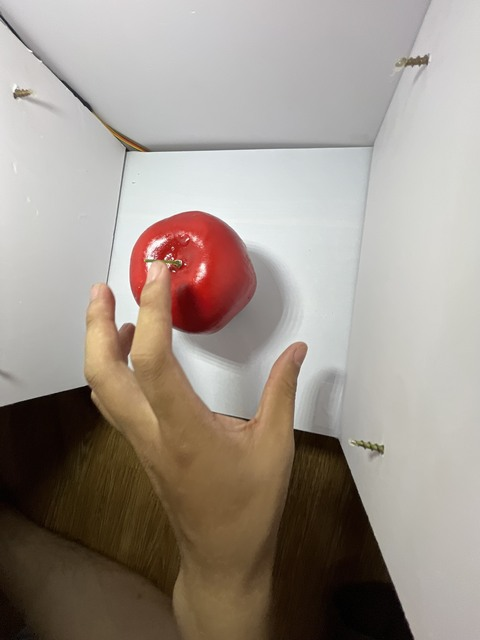Tao: (125, 205, 262, 339)
